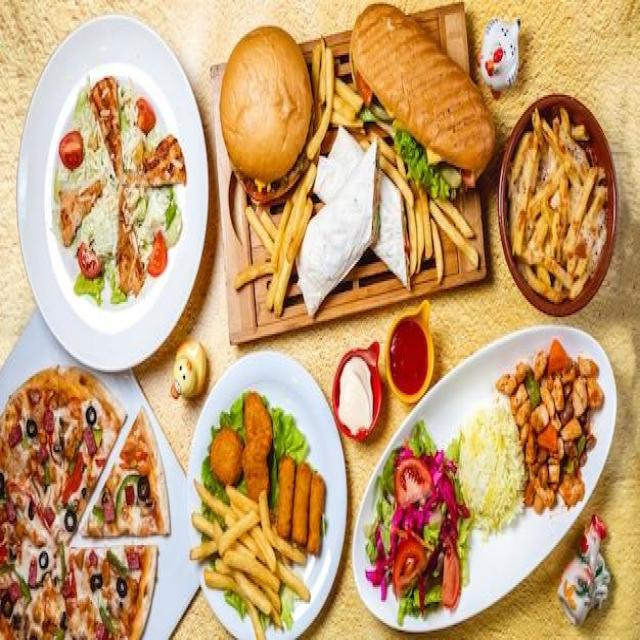olive: (2, 594, 14, 617), (138, 478, 149, 500), (90, 574, 103, 592), (65, 511, 76, 532), (116, 578, 127, 598), (27, 419, 37, 439), (86, 406, 96, 424), (39, 552, 48, 569), (28, 501, 34, 521), (0, 472, 5, 496), (82, 488, 86, 498)
pizza: (0, 364, 158, 638), (81, 406, 171, 538), (93, 428, 102, 450)
